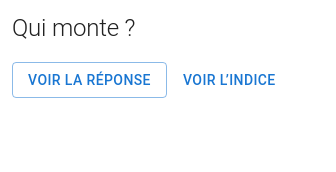
Scenario: rendu par kind › affiche et masque l’indice indépendamment de la réponse, puis le réinitialise pour une autre énigme
Later steps or results of the test are not shown.
Click the button "Voir l’indice": (229, 80) [175, 62, 284, 98]
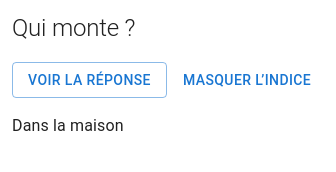
Expected: the text "Dans la maison" is shown, [12, 116, 124, 135]
Expected: the button named "Voir l’indice" is expanded
Click the button "Masquer l’indice": (247, 80) [175, 62, 319, 98]
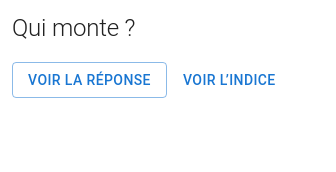
Expected: the text "Dans la maison" is gone
